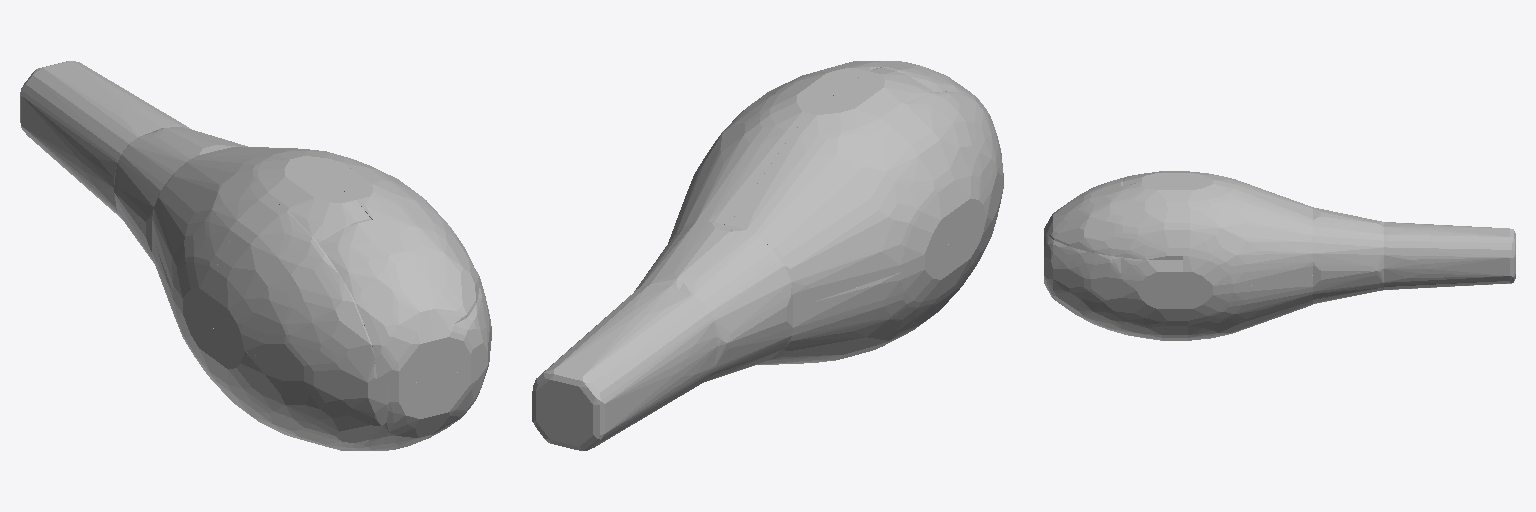
The robot description file, URDF, robot "root":
<?xml version="1.0"?>
<robot name="root">
  <link name="base_link">
    <visual>
      <origin xyz="0 0 0" rpy="0 0 0" />
      <geometry>
        <mesh filename="../meshes/unidex_core_jar-a2da2f83adf04371d680196133d8b70f_006.obj" scale="1.0000E+00 1.0000E+00 1.0000E+00" />
      </geometry>
      <material name="">
        <color rgba="7.50E-01 7.50E-01 7.50E-01 1" />
      </material>
    </visual>
    <collision>
      <origin xyz="0 0 0" rpy="0 0 0" />
      <geometry>
        <mesh filename="../meshes/unidex_core_jar-a2da2f83adf04371d680196133d8b70f_006.obj" scale="1.0000E+00 1.0000E+00 1.0000E+00" />
      </geometry>
    </collision>
  </link>
</robot>

--- What the picture shows (computed from the rendered views, not written in the file) ---
3 views of the same robot in one strip: view 1: azimuth 30°, elevation 25°; view 2: azimuth 150°, elevation 25°; view 3: azimuth 270°, elevation 25° (orthographic).
Model root with 1 links and 0 joints (none), rooted at base_link, posed all joints at 0.
Visible links, largest first — view 1: base_link; view 2: base_link; view 3: base_link.
Boxes of the visible links, x1=… form: base_link: x1=20, y1=61, x2=491, y2=450; base_link: x1=532, y1=61, x2=1003, y2=450; base_link: x1=1044, y1=171, x2=1515, y2=340.
Bounding box of the posed robot: 0.0408 × 0.1172 × 0.0408 m (x, y, z).
Meshes: 1 distinct files referenced, 1 mesh visuals loaded (1 OBJ).
